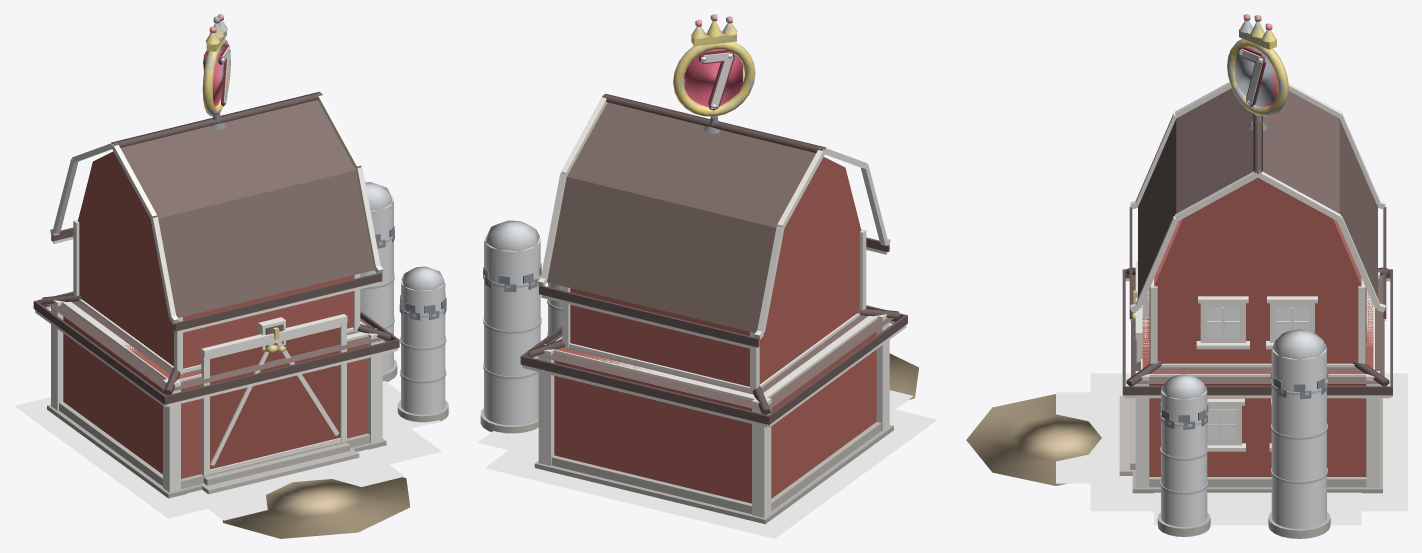
The model's file is barn_7.glb.
The picture shows the model from 3 angles, left to right: view 1: azimuth 30°, elevation 25°; view 2: azimuth 150°, elevation 25°; view 3: azimuth 270°, elevation 25°; orthographic projection. The views are drawn at different scales.
Visible parts, largest first — view 1: body2, barn_7, spin_60_0, body; view 2: body2, barn_7, spin_60_0, body; view 3: body2, barn_7, body, spin_60_0.
Part boxes in pixels (x1=…): body2: x1=33, y1=91, x2=448, y2=538; barn_7: x1=15, y1=381, x2=441, y2=520; spin_60_0: x1=202, y1=14, x2=230, y2=115; body: x1=202, y1=14, x2=230, y2=116; body2: x1=480, y1=93, x2=918, y2=524; barn_7: x1=478, y1=390, x2=937, y2=538; spin_60_0: x1=673, y1=14, x2=755, y2=116; body: x1=674, y1=14, x2=754, y2=114; body2: x1=966, y1=82, x2=1392, y2=538; barn_7: x1=1056, y1=373, x2=1407, y2=525; body: x1=1227, y1=14, x2=1288, y2=115; spin_60_0: x1=1227, y1=14, x2=1288, y2=116.
Size of the model in its own units: 3.34 by 4.06 by 3.8.
